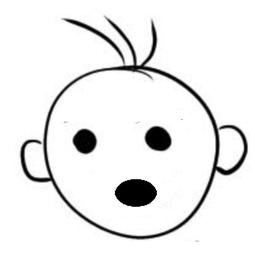ear: (209, 124, 251, 179), (17, 135, 55, 186)
eye: (136, 120, 179, 155), (71, 125, 101, 158)
open_mouth: (110, 172, 163, 215)
